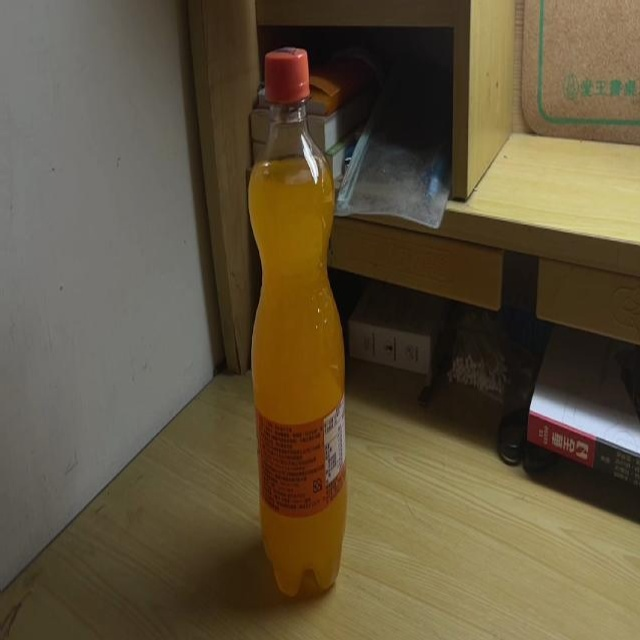Fanta: (248, 46, 348, 605)
